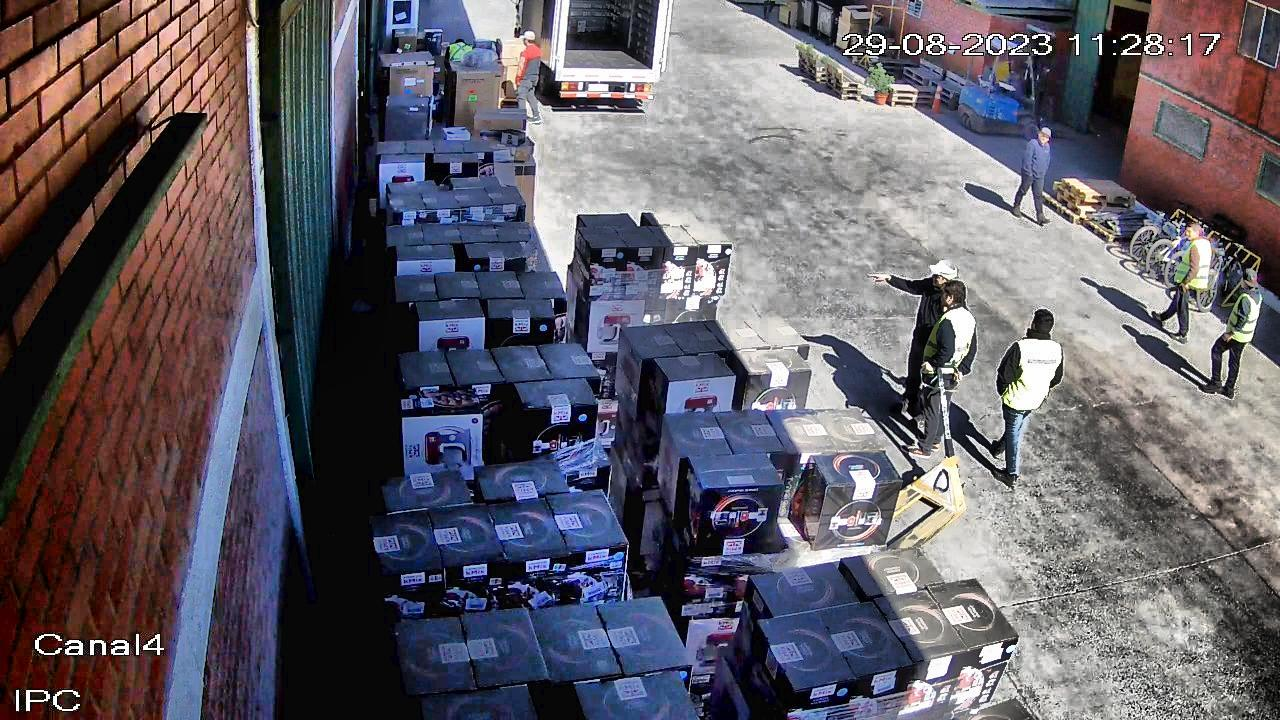con-casco: (518, 30, 538, 48)
con-chaleco: (1001, 325, 1063, 412), (914, 309, 980, 378), (1166, 238, 1213, 289), (1224, 290, 1267, 343), (447, 42, 471, 64)
persona: (866, 257, 962, 429), (895, 280, 982, 461), (980, 306, 1066, 489), (1144, 218, 1213, 346), (1009, 121, 1057, 226), (505, 29, 543, 129), (446, 34, 472, 104)
sin-casco: (1196, 266, 1263, 399), (934, 281, 973, 309), (1023, 308, 1058, 338), (923, 262, 959, 284), (1179, 220, 1208, 240), (1237, 268, 1262, 291), (1032, 123, 1055, 147), (453, 34, 470, 47)
sin-chaleco: (913, 275, 962, 345), (1020, 140, 1053, 181), (516, 42, 543, 81)
